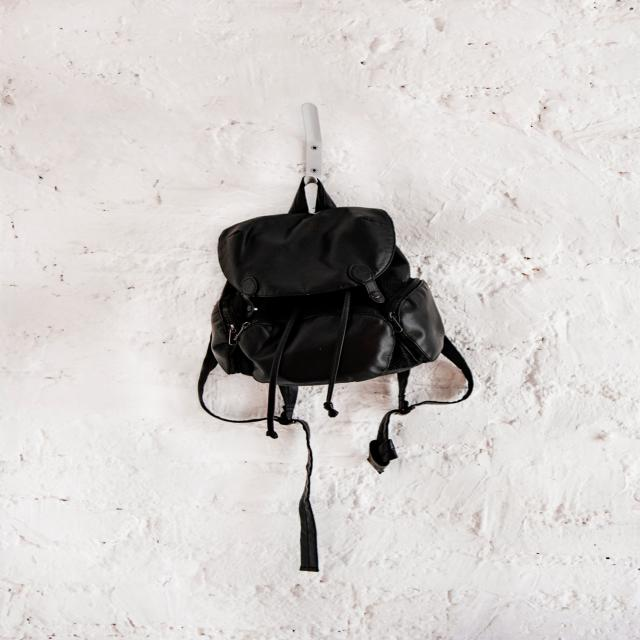backpack: (206, 175, 445, 378)
